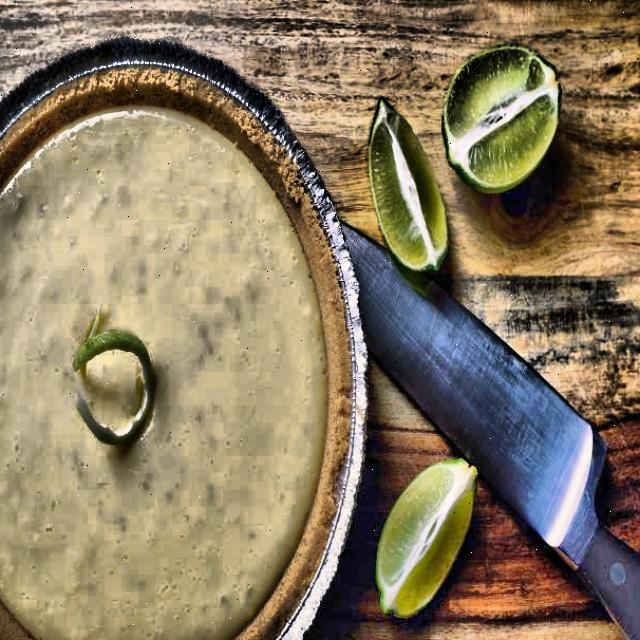knife: (301, 185, 611, 556)
